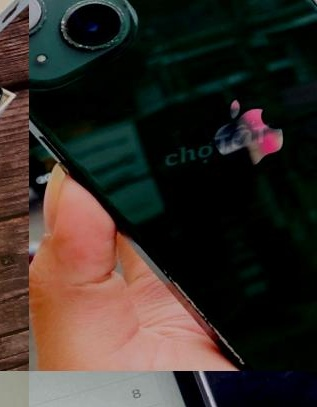scratch: (0, 371, 29, 407)
